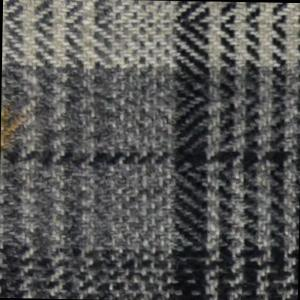Stain: (1, 102, 31, 166)
